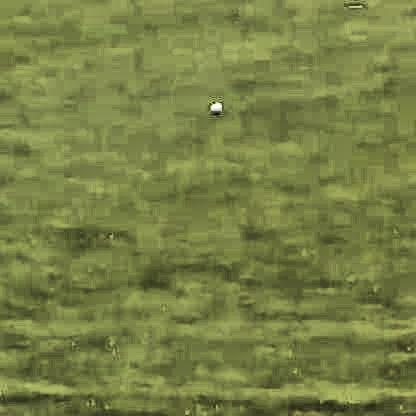golfball: (207, 99, 222, 113)
